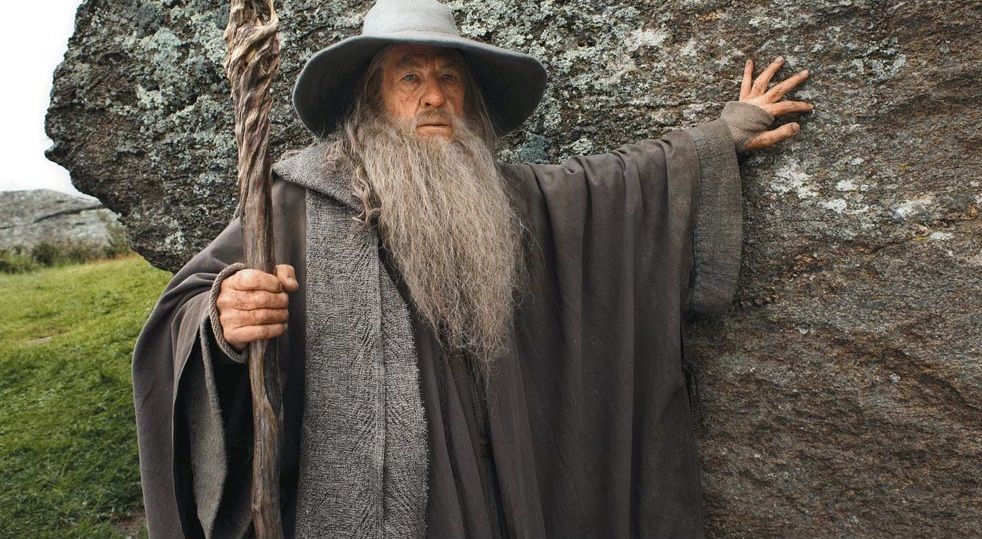gandalf grey: (112, 4, 827, 523)
